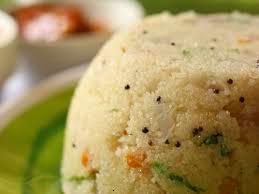upma: (68, 10, 258, 194)
